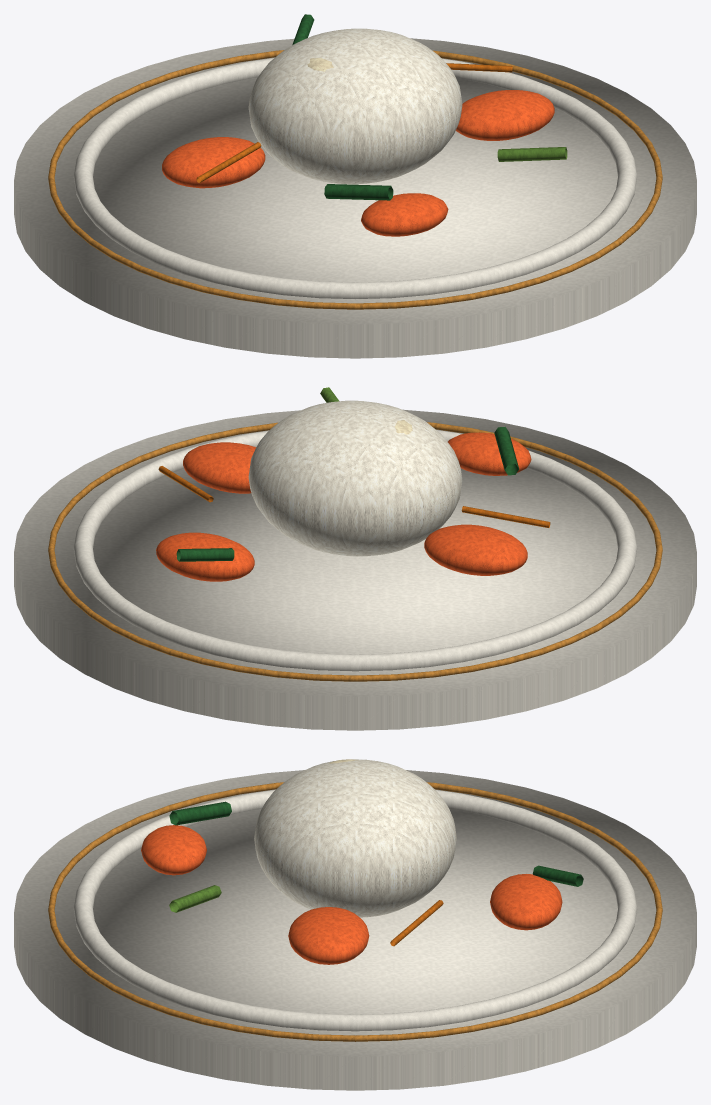
The model's file is burrata.glb.
The picture shows the model from 3 angles, top to bottom: view 1: azimuth 30°, elevation 25°; view 2: azimuth 150°, elevation 25°; view 3: azimuth 270°, elevation 25°; orthographic projection.
Parts seen in each view (by area): view 1: porcelain, white, peach, gold, leaf, honey, leafLight; view 2: porcelain, white, peach, gold, leaf, honey; view 3: porcelain, white, peach, gold, leaf, leafLight.
Part boxes in pixels (x1,y1,x2,y2): porcelain: (14, 38, 696, 358); white: (248, 28, 462, 184); peach: (162, 90, 554, 236); gold: (48, 50, 662, 309); leaf: (292, 14, 393, 200); honey: (196, 63, 512, 182); leafLight: (497, 147, 567, 161); porcelain: (14, 409, 696, 730); white: (248, 400, 462, 556); peach: (156, 432, 531, 581); gold: (48, 422, 662, 681); leaf: (176, 426, 518, 561); honey: (158, 466, 550, 527); porcelain: (14, 770, 696, 1090); white: (254, 759, 456, 917); peach: (141, 825, 562, 964); gold: (48, 782, 662, 1041); leaf: (169, 801, 583, 886); leafLight: (169, 885, 221, 912).
Size of the model in its own units: 0.64 by 0.1785 by 0.64.
Materials: 8 (8 with a texture image).
